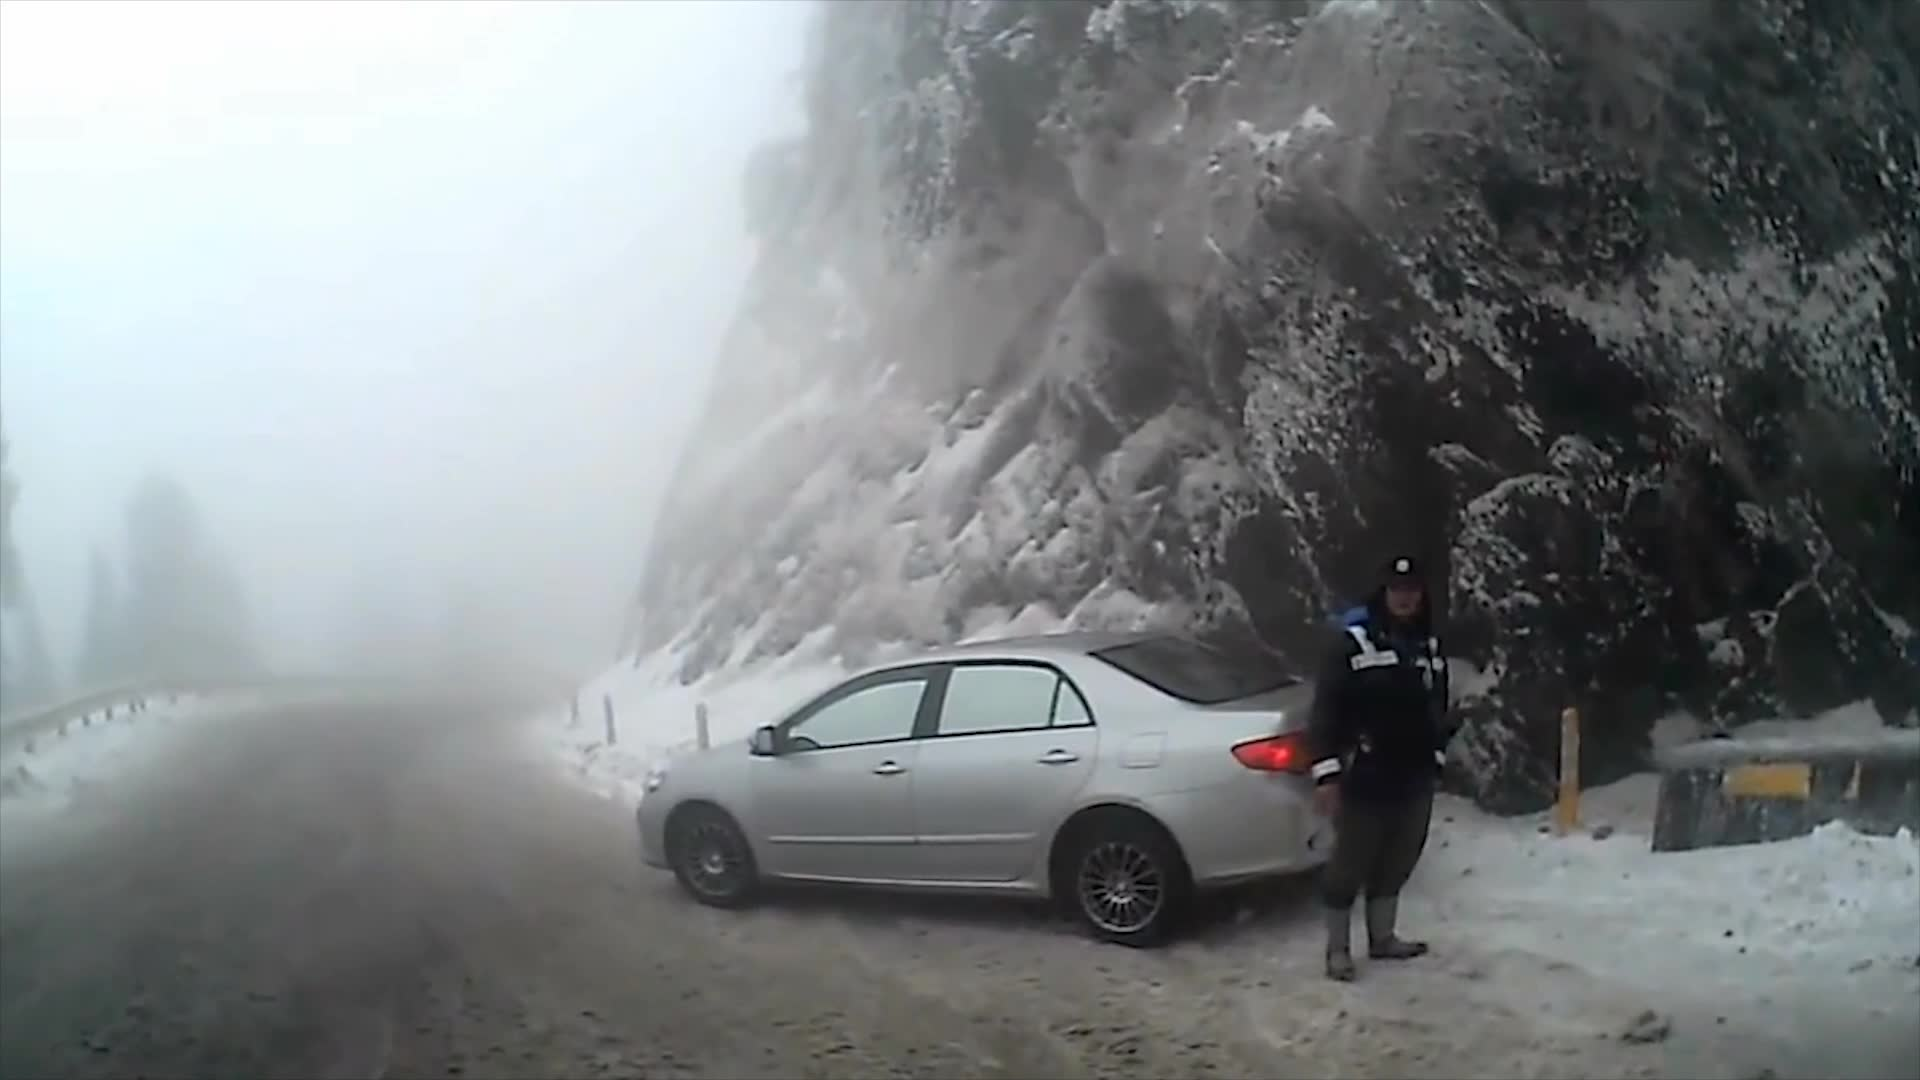pedestrian: (1304, 549, 1443, 981)
vehicle: (636, 626, 1407, 945)
